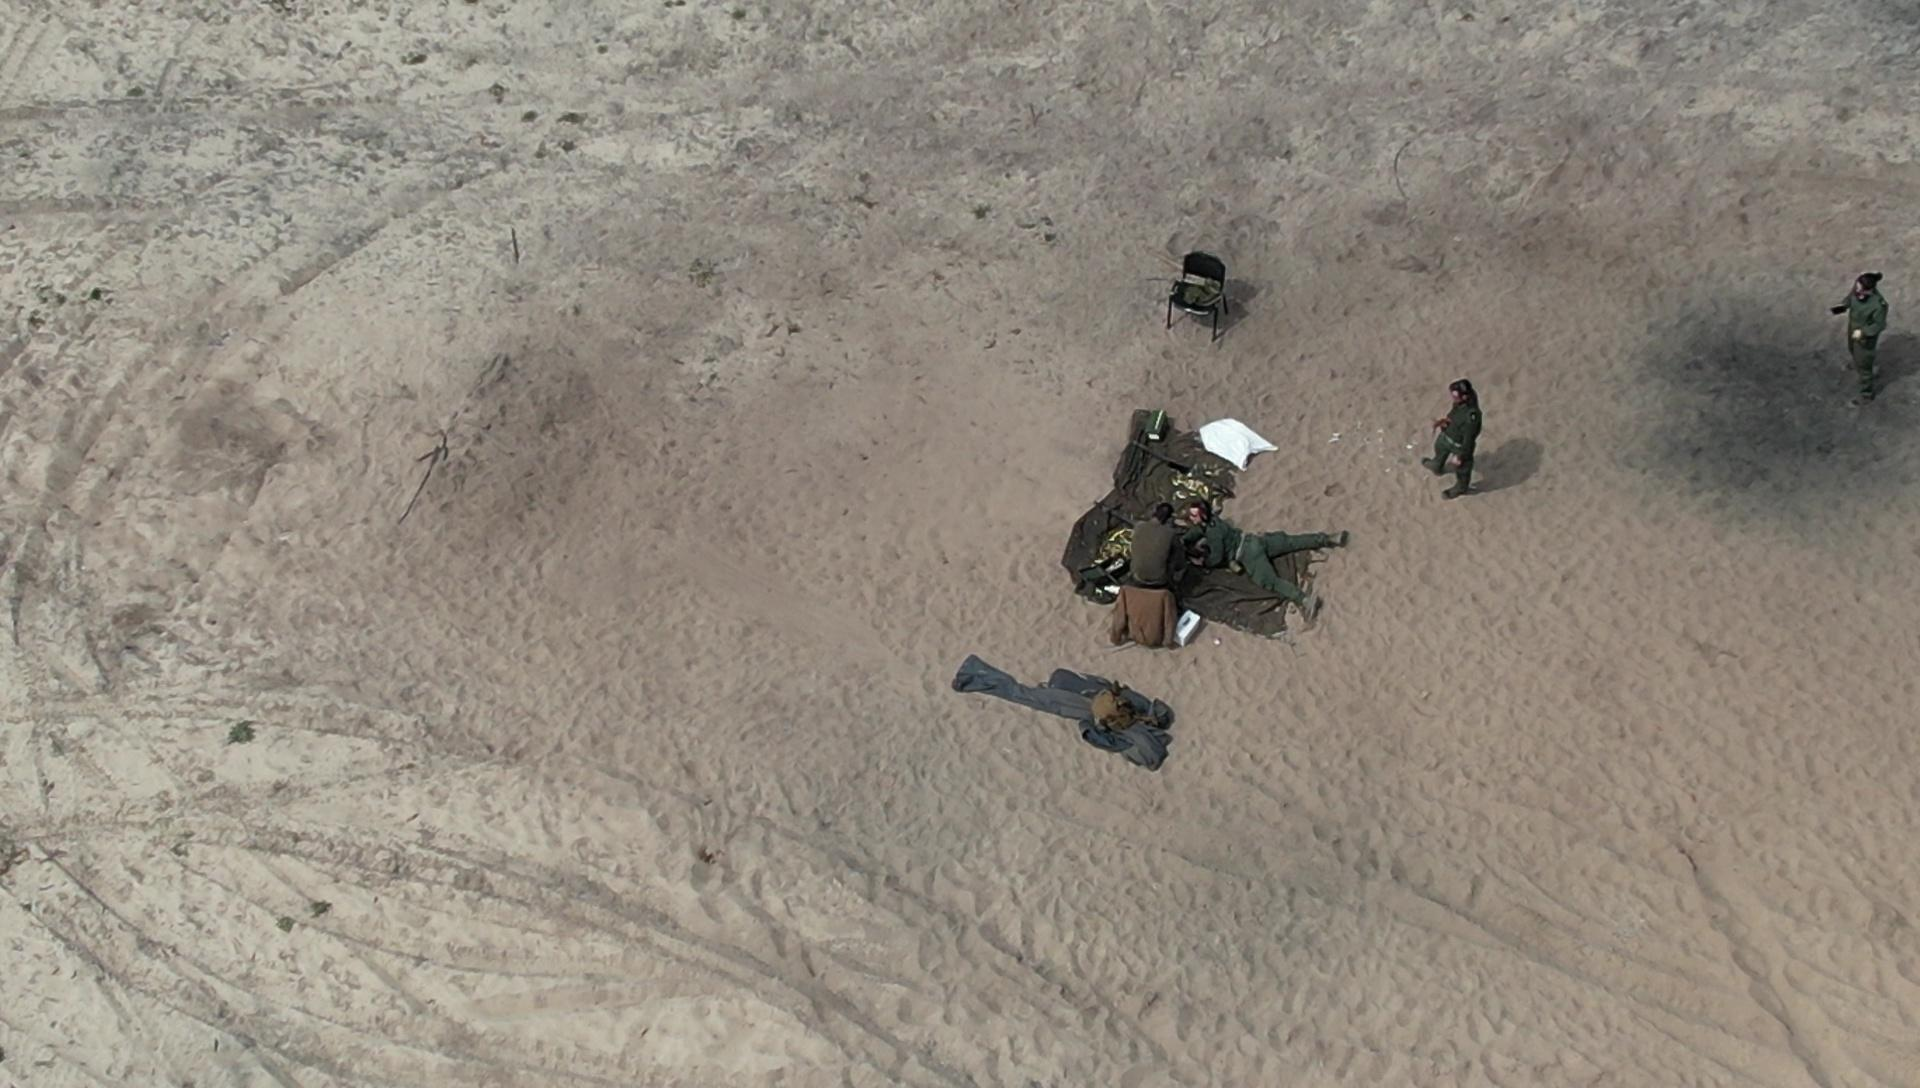Soldier: (1182, 496, 1331, 637), (1828, 291, 1913, 419), (1423, 382, 1507, 509), (1125, 485, 1204, 605)
